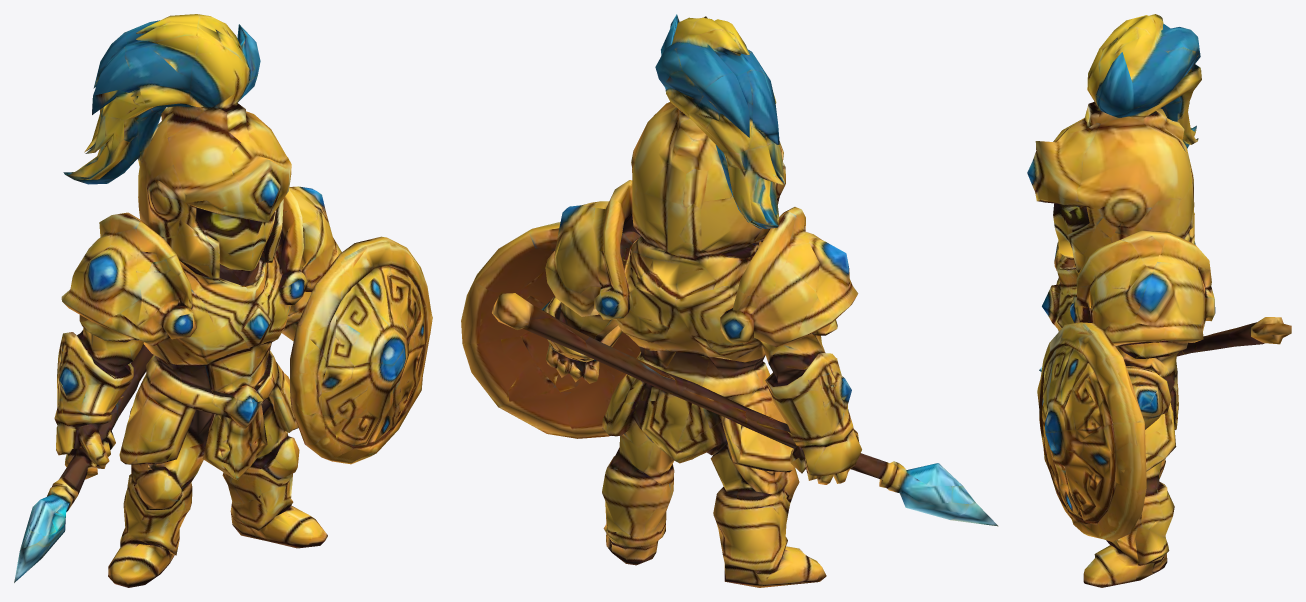
The model's file is m_sentinelle.glb.
3 views of the same model, side by side, from view 1: azimuth 30°, elevation 25°; view 2: azimuth 150°, elevation 25°; view 3: azimuth 270°, elevation 25° (orthographic). The views are drawn at different scales.
Bounding box in the file's own units: 1.74 × 1.9 × 0.8878.
1 material, 1 textured.
